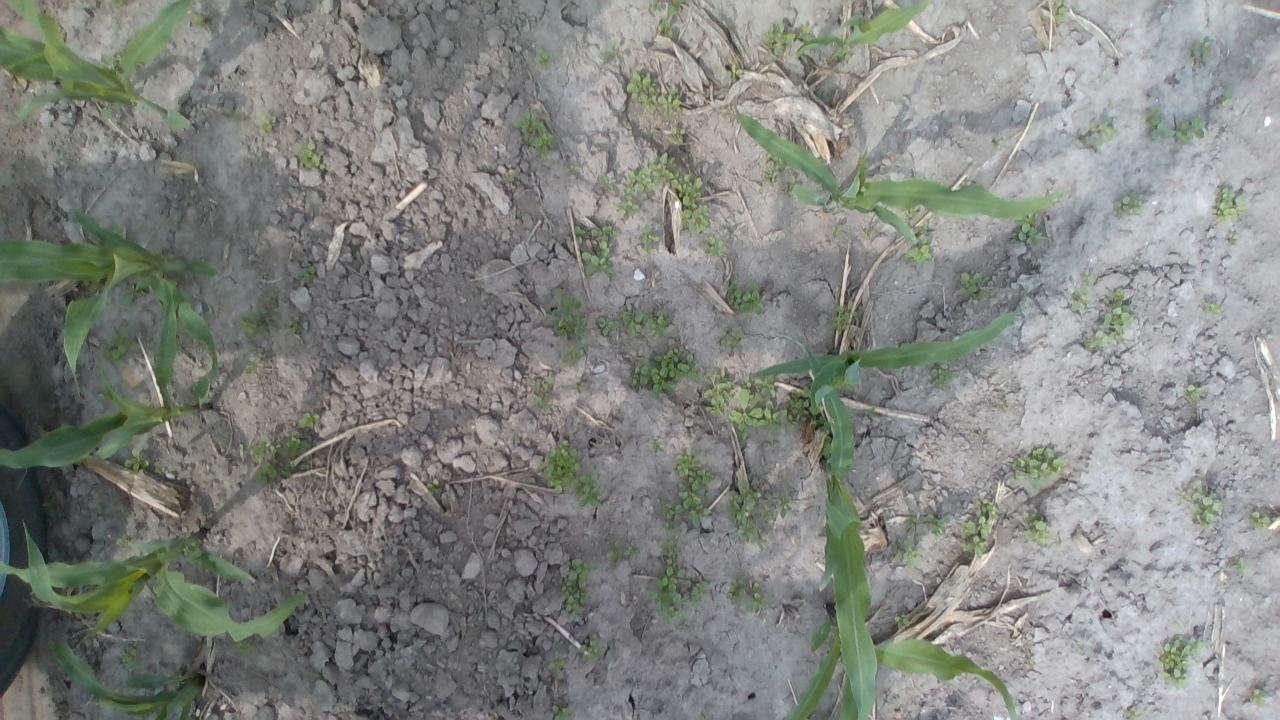Maize: (732, 99, 1062, 246), (0, 204, 222, 404), (0, 280, 217, 475), (0, 520, 308, 648), (782, 333, 879, 720), (750, 295, 1026, 415), (778, 601, 1019, 720), (0, 0, 197, 134), (49, 638, 208, 720), (796, 0, 935, 61)
Weeds: (645, 538, 710, 624), (660, 152, 710, 234), (730, 375, 788, 442), (630, 346, 701, 394), (674, 450, 714, 528), (1160, 635, 1210, 689), (1010, 446, 1064, 492), (536, 440, 580, 494), (1179, 479, 1223, 533), (550, 288, 590, 345), (512, 109, 556, 159), (561, 558, 596, 618), (727, 576, 772, 614), (1103, 288, 1134, 342), (727, 480, 762, 524), (704, 368, 736, 415), (102, 326, 141, 364), (1213, 185, 1249, 226), (725, 279, 763, 316), (251, 438, 280, 486), (236, 308, 279, 340), (961, 515, 990, 559), (784, 386, 814, 428), (904, 220, 932, 265), (1076, 119, 1115, 151), (1022, 511, 1054, 549), (626, 72, 656, 112), (1140, 108, 1176, 140), (574, 474, 606, 509), (293, 140, 326, 172), (580, 248, 615, 278), (624, 164, 659, 194), (1010, 217, 1046, 246), (766, 23, 796, 56), (831, 299, 859, 334), (605, 538, 641, 565), (959, 270, 990, 301), (891, 540, 922, 570), (1114, 190, 1145, 218), (589, 221, 619, 249), (742, 524, 770, 552), (1176, 118, 1206, 143), (532, 377, 554, 411), (282, 432, 309, 459), (123, 447, 150, 474), (578, 634, 604, 662), (720, 322, 744, 352), (118, 640, 140, 672), (1184, 39, 1212, 64), (646, 310, 670, 338), (658, 88, 682, 116), (190, 8, 222, 28), (639, 224, 660, 254), (930, 363, 954, 388), (616, 195, 640, 220), (976, 500, 1000, 524), (622, 312, 644, 338), (1068, 286, 1090, 312), (926, 514, 951, 536), (213, 107, 249, 122), (600, 42, 624, 64), (548, 651, 566, 680), (704, 235, 724, 259), (560, 347, 585, 366), (298, 411, 320, 431), (258, 114, 278, 136), (819, 418, 830, 456), (778, 492, 794, 518), (534, 47, 552, 70), (1251, 511, 1271, 531), (599, 317, 620, 336), (1084, 330, 1106, 348), (550, 705, 576, 720), (1052, 0, 1068, 24), (662, 504, 677, 529), (1249, 689, 1268, 708), (285, 313, 303, 333), (298, 266, 318, 284), (1230, 557, 1250, 575), (658, 20, 674, 42), (782, 173, 798, 195), (1185, 383, 1204, 400), (1203, 300, 1223, 316), (798, 24, 814, 44), (667, 0, 687, 16), (670, 126, 686, 146), (760, 168, 780, 184), (768, 154, 786, 171), (894, 613, 910, 630), (1217, 89, 1233, 106), (724, 63, 742, 78), (426, 480, 442, 496), (761, 509, 777, 524), (574, 226, 586, 246), (600, 175, 616, 190), (650, 438, 664, 455), (242, 362, 260, 375), (1126, 706, 1142, 720), (650, 0, 666, 13), (236, 641, 248, 657), (564, 164, 580, 176), (264, 291, 277, 305), (116, 534, 129, 548), (573, 382, 588, 393), (904, 517, 919, 528), (864, 406, 878, 417), (996, 400, 1008, 412), (1084, 270, 1094, 283), (1228, 232, 1238, 244), (110, 0, 126, 7), (907, 209, 917, 217), (506, 176, 516, 182)
